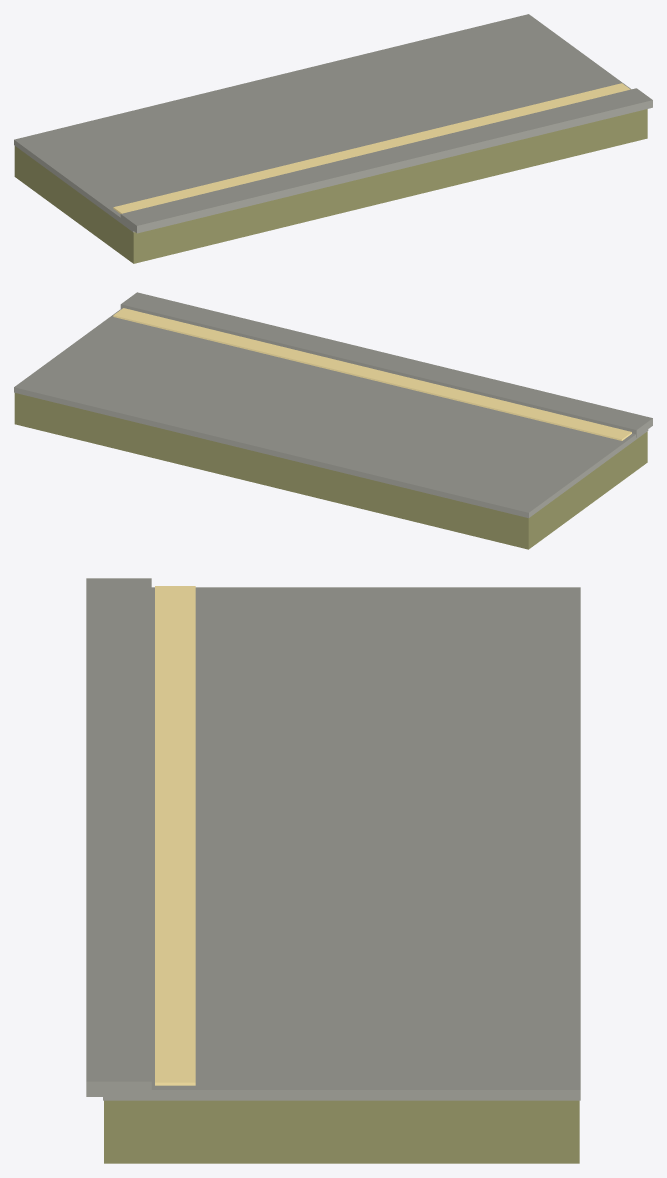
Rendered from SM_KitAnden_v4_LOD1.fbx.
3 views of the same model, one above another, from view 1: azimuth 30°, elevation 25°; view 2: azimuth 150°, elevation 25°; view 3: azimuth 270°, elevation 25° (orthographic). The views are drawn at different scales.
Visible parts, largest first — view 1: SM_bloques.kit_anden_v4_LOD1; view 2: SM_bloques.kit_anden_v4_LOD1; view 3: SM_bloques.kit_anden_v4_LOD1.
Boxes of the visible parts, bbox=[...] form: SM_bloques.kit_anden_v4_LOD1: bbox=[14, 14, 652, 263]; SM_bloques.kit_anden_v4_LOD1: bbox=[14, 292, 652, 549]; SM_bloques.kit_anden_v4_LOD1: bbox=[86, 578, 580, 1163].
Size of the model in its own units: 10.02 by 0.77 by 4.16.
